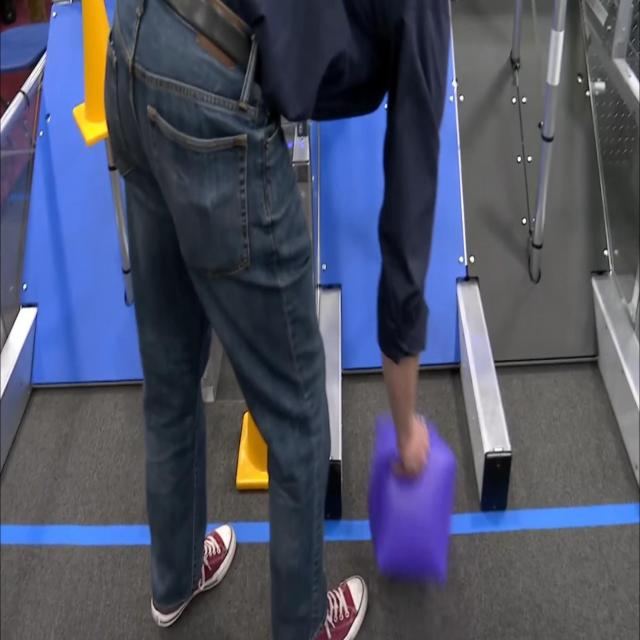frc_cone: (74, 0, 113, 143), (238, 403, 271, 490)
frc_cube: (370, 414, 456, 586)
